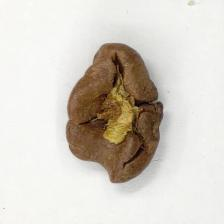NG: (64, 42, 166, 185)
